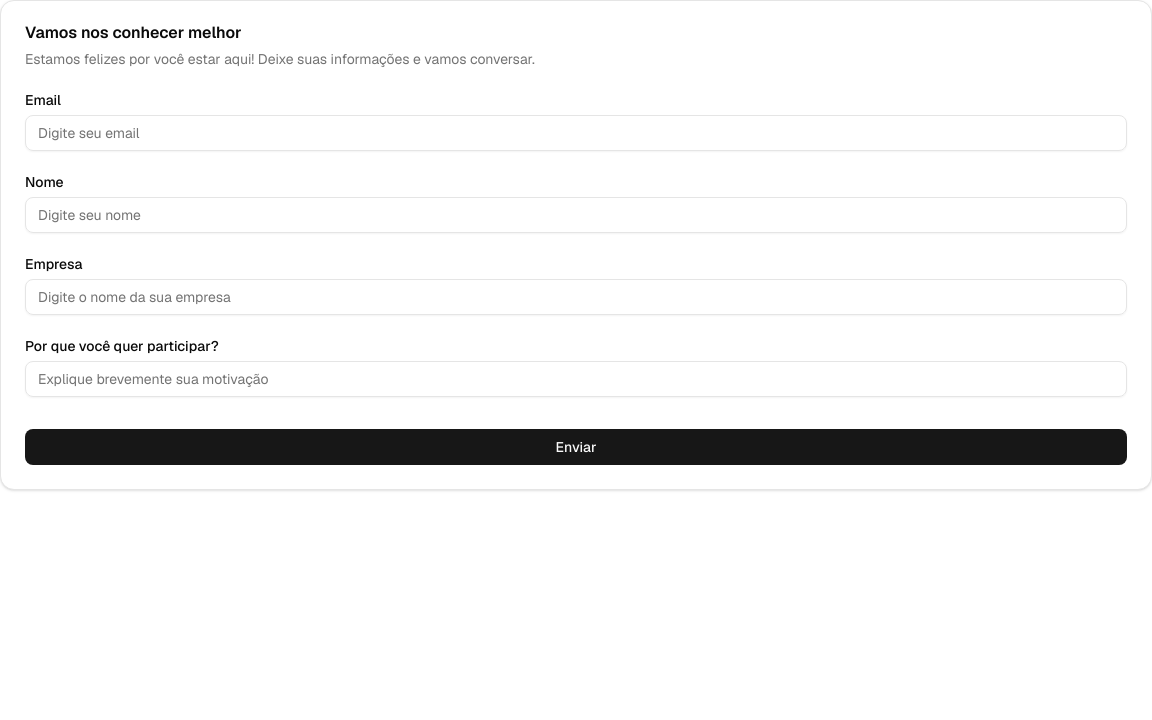
Test: ContactIntroForm › deve exibir erros de validação Zod
This screenshot has width=1152, height=720.
Note: Submeter o formulário vazio
Click the button "Enviar" at (576, 447), box [25, 429, 1127, 465]
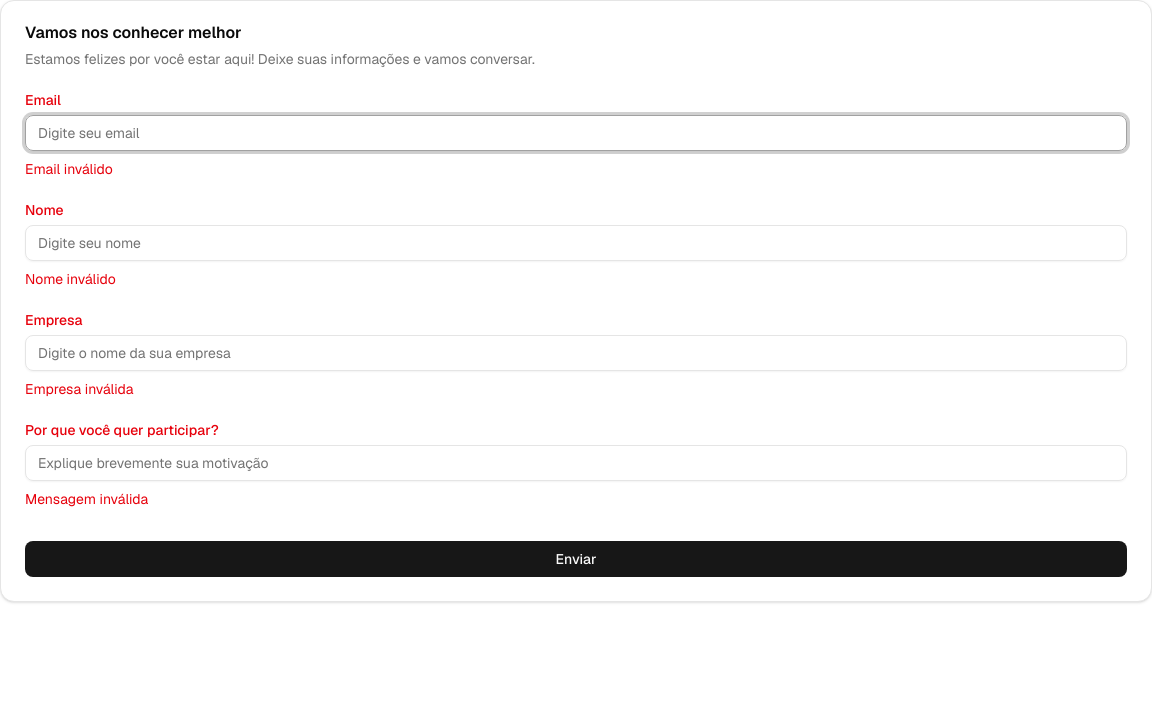
Expected: the text "Email inválido" is shown, [25, 160, 113, 178]
Expected: the text "Nome inválido" is shown, [25, 270, 116, 288]
Expected: the text "Empresa inválida" is shown, [25, 380, 133, 398]
